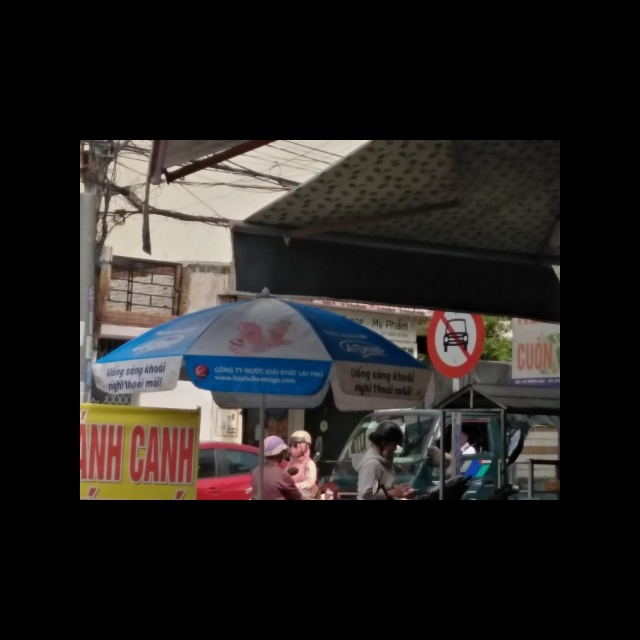Cấm xe ô tô: (425, 309, 488, 378)
